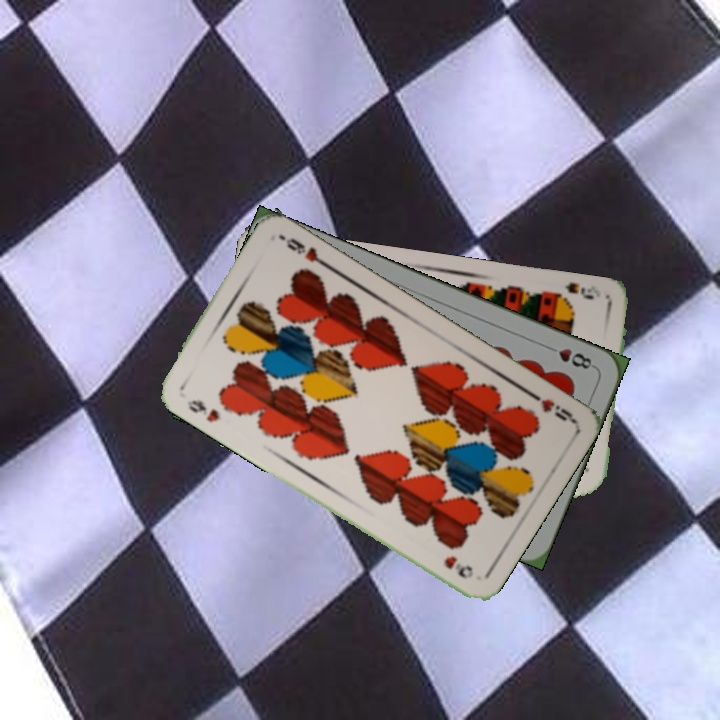H8: (541, 341, 598, 372)
H9: (523, 386, 577, 425), (183, 395, 223, 425)
S9: (548, 279, 603, 306)
